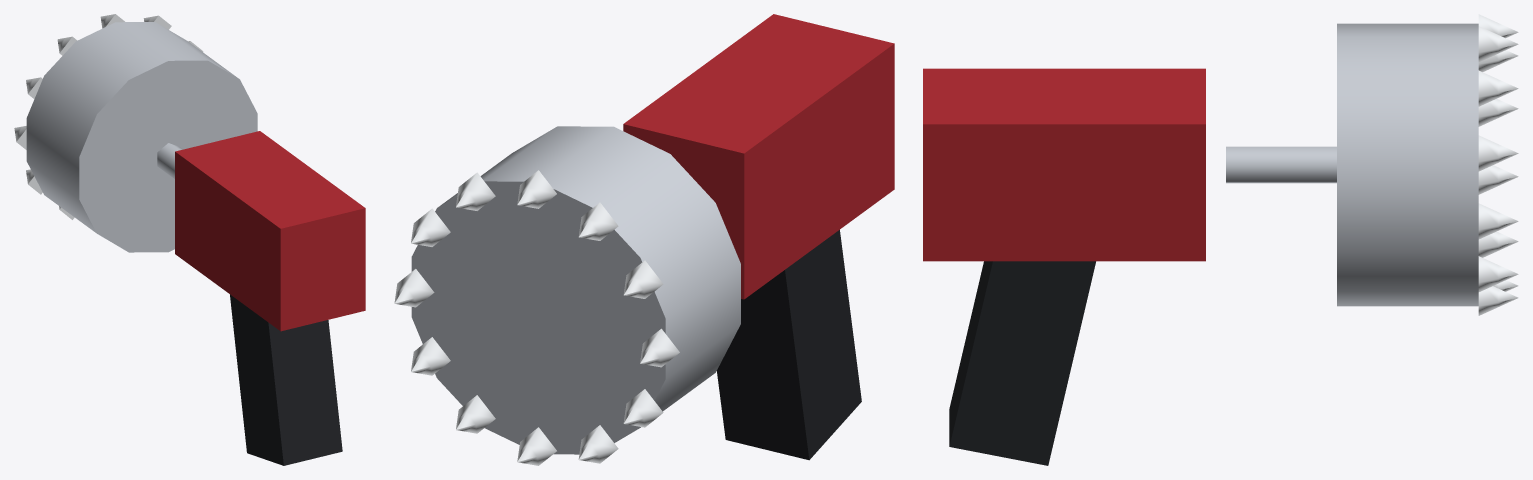
File: tool_holesaw.glb
3 renders of one model, left to right at view 1: azimuth 30°, elevation 25°; view 2: azimuth 150°, elevation 25°; view 3: azimuth 270°, elevation 25°, orthographic. The views are drawn at different scales.
Visible parts, largest first — view 1: _MeshInstance3D_1099, _MeshInstance3D_1097, _MeshInstance3D_1096, _MeshInstance3D_1098; view 2: _MeshInstance3D_1099, _MeshInstance3D_1097, _MeshInstance3D_1096, _MeshInstance3D_1108, _MeshInstance3D_1102, _MeshInstance3D_1107, _MeshInstance3D_1100, _MeshInstance3D_1106, _MeshInstance3D_1110, _MeshInstance3D_1111, _MeshInstance3D_1103, _MeshInstance3D_1104 (+3 smaller); view 3: _MeshInstance3D_1097, _MeshInstance3D_1099, _MeshInstance3D_1096, _MeshInstance3D_1098, _MeshInstance3D_1102, _MeshInstance3D_1100, _MeshInstance3D_1101, _MeshInstance3D_1111, _MeshInstance3D_1103, _MeshInstance3D_1110, _MeshInstance3D_1107, _MeshInstance3D_1106 (+1 smaller).
Part boxes in pixels (x1,y1,x2,y2): _MeshInstance3D_1099: [26, 22, 257, 252]; _MeshInstance3D_1097: [175, 131, 365, 331]; _MeshInstance3D_1096: [230, 294, 342, 465]; _MeshInstance3D_1098: [157, 143, 182, 178]; _MeshInstance3D_1099: [411, 126, 740, 454]; _MeshInstance3D_1097: [623, 14, 894, 299]; _MeshInstance3D_1096: [717, 230, 861, 460]; _MeshInstance3D_1108: [578, 425, 618, 463]; _MeshInstance3D_1102: [456, 172, 495, 210]; _MeshInstance3D_1107: [623, 389, 663, 427]; _MeshInstance3D_1100: [394, 269, 434, 307]; _MeshInstance3D_1106: [640, 328, 679, 367]; _MeshInstance3D_1110: [456, 395, 495, 433]; _MeshInstance3D_1111: [411, 337, 450, 375]; _MeshInstance3D_1103: [517, 170, 556, 208]; _MeshInstance3D_1104: [578, 202, 618, 240]; _MeshInstance3D_1097: [923, 68, 1205, 261]; _MeshInstance3D_1099: [1337, 23, 1478, 306]; _MeshInstance3D_1096: [949, 261, 1095, 465]; _MeshInstance3D_1098: [1226, 146, 1336, 183]; _MeshInstance3D_1102: [1478, 70, 1518, 106]; _MeshInstance3D_1100: [1478, 203, 1518, 239]; _MeshInstance3D_1101: [1478, 135, 1518, 171]; _MeshInstance3D_1111: [1478, 256, 1518, 291]; _MeshInstance3D_1103: [1478, 26, 1518, 61]; _MeshInstance3D_1110: [1478, 286, 1518, 315]; _MeshInstance3D_1107: [1478, 165, 1518, 194]; _MeshInstance3D_1106: [1478, 98, 1518, 126].
Bounding box in the file's own units: 0.152 × 0.2299 × 0.295.
